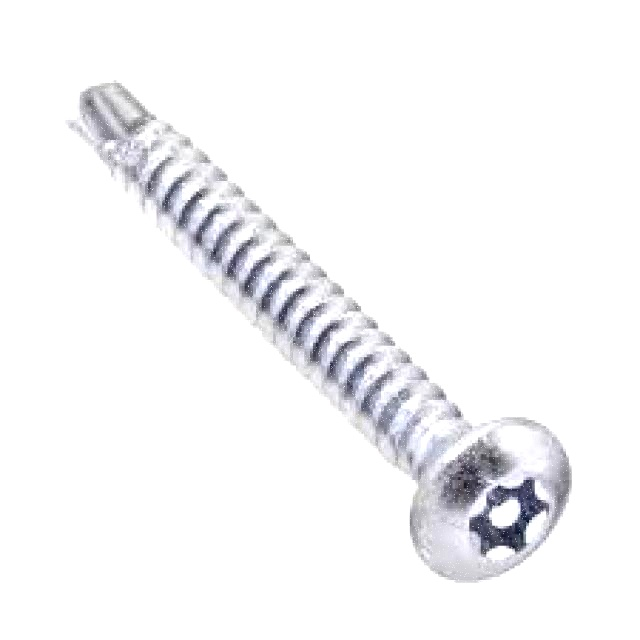torx: (410, 414, 573, 583)
